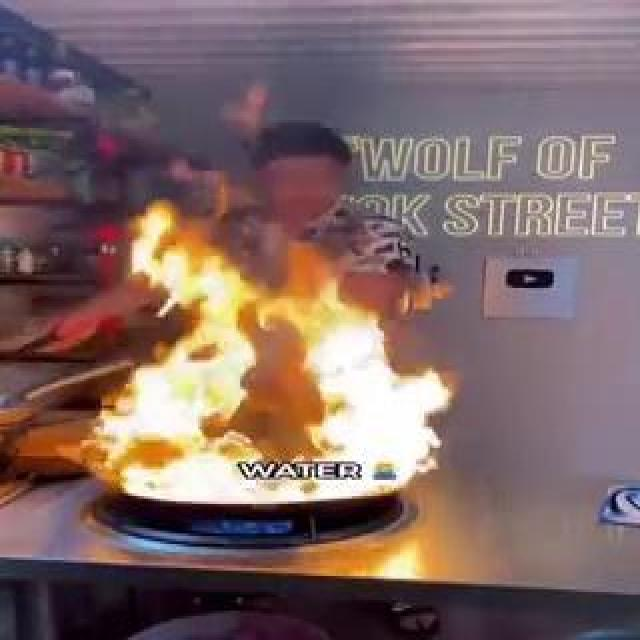Fire: (260, 290, 406, 434)
